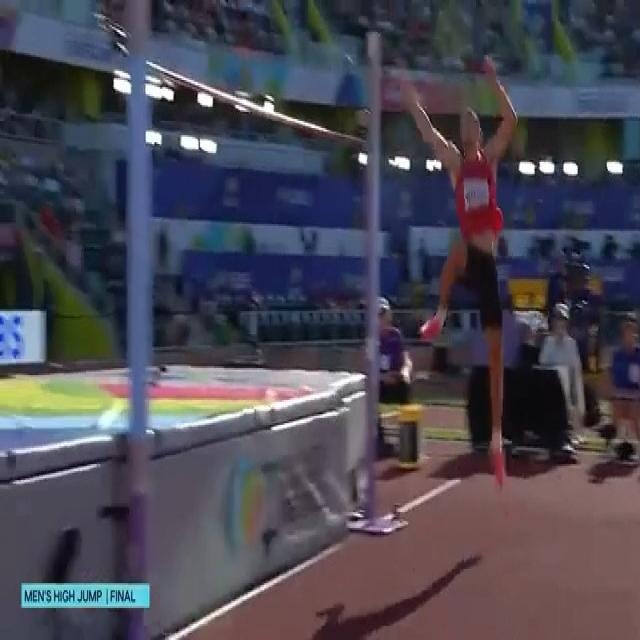jump: (392, 54, 516, 495)
